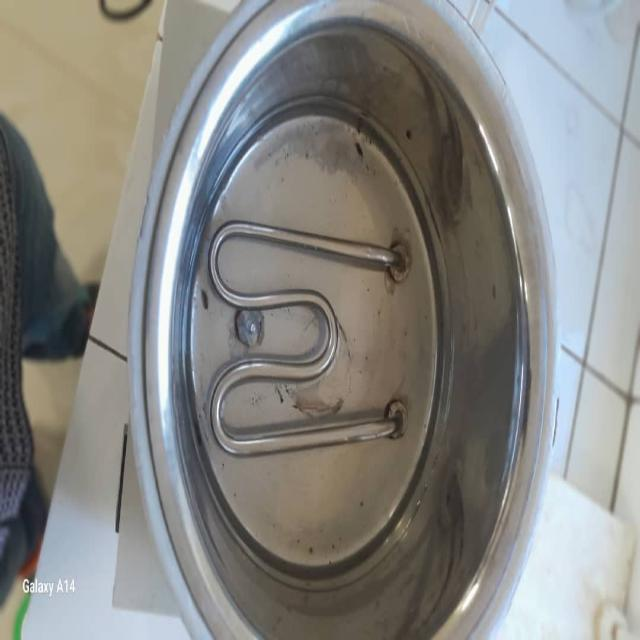Water-Oil Bath: (192, 2, 548, 584)
